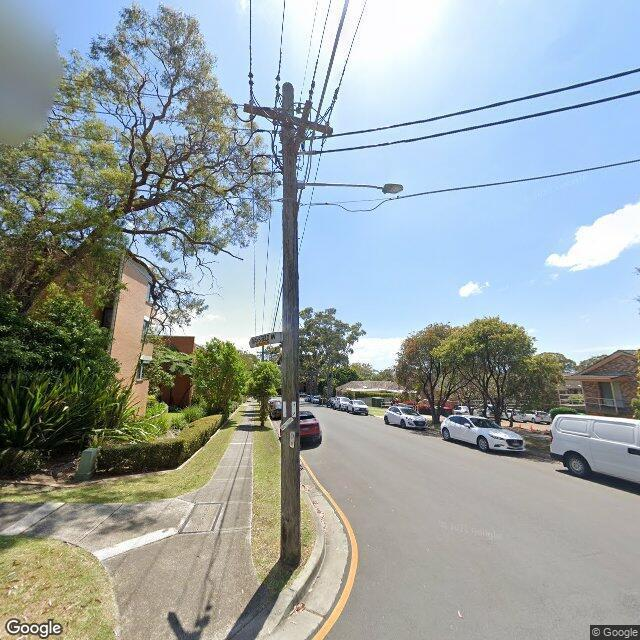crossarm: (244, 104, 332, 136), (294, 100, 312, 158)
streetlight: (297, 181, 405, 195)
timber-pole: (279, 81, 302, 566)
